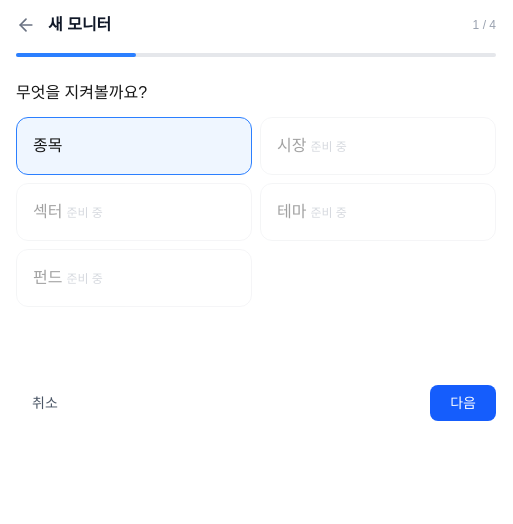
Test: MonitorBuilder 4단계 › 심볼 검증 실패(API 400) → 대상 지정 단계로 복귀 + 에러
This screenshot has width=513, height=524.
Click the button "다음" at (463, 403), box 430,385 -> 496,421
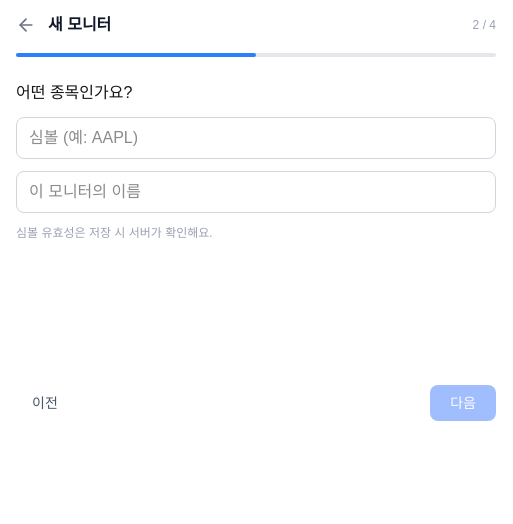
Type "NOPE" into the field with placeholder "심볼 (예: AAPL)" at (256, 138), box 16,117 -> 496,159
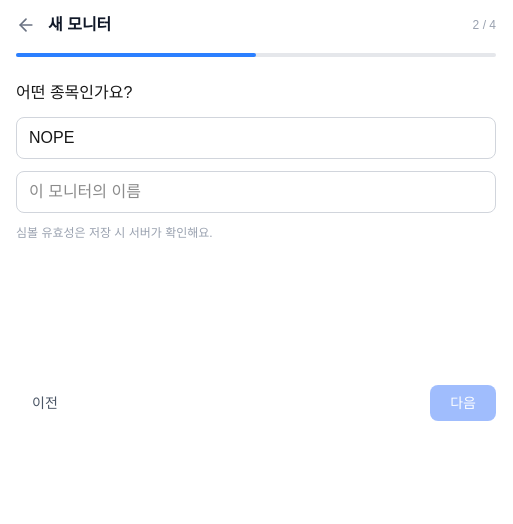
Type "x" into the field with placeholder "이 모니터의 이름" at (256, 192), box 16,171 -> 496,213
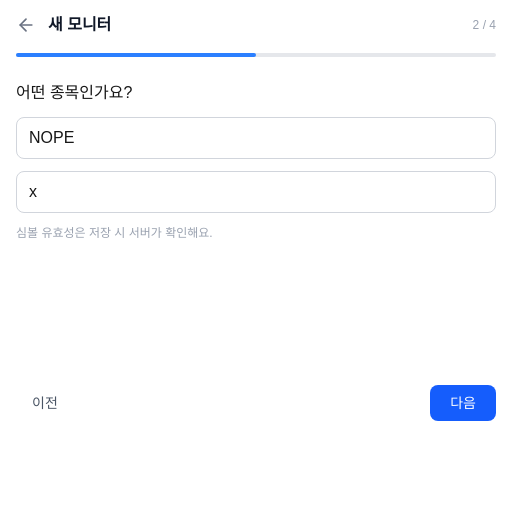
Click the button "다음" at (463, 403), box 430,385 -> 496,421
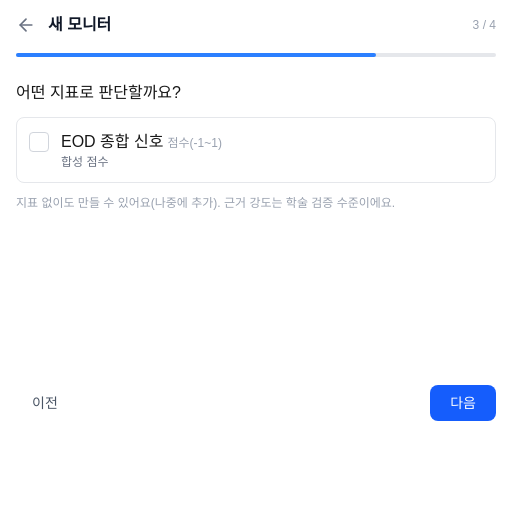
Click the button "다음" at (463, 403), box 430,385 -> 496,421
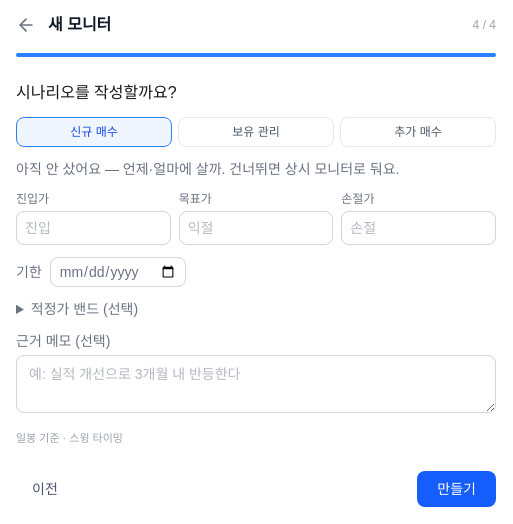
Click the button "만들기" at (457, 488), box 417,470 -> 496,506
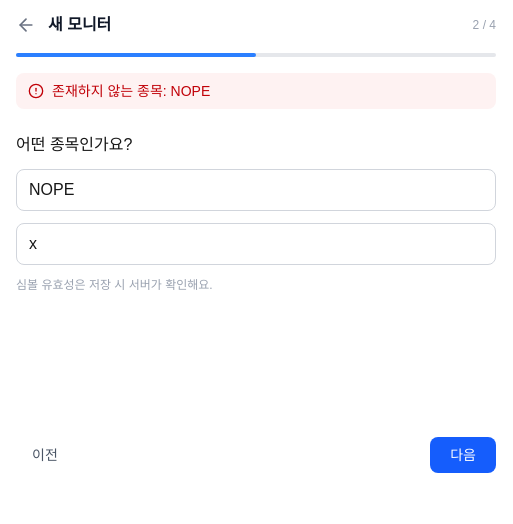
Now the text "존재하지 않는 종목: NOPE" is shown, box 16,73 -> 496,109
Now the element with test id "step-target" is shown, box 16,133 -> 496,293
